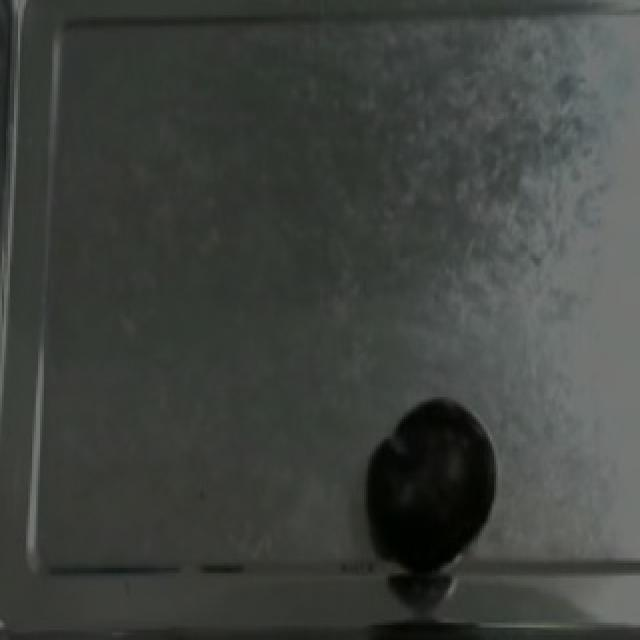Fruit: (356, 389, 504, 578)
